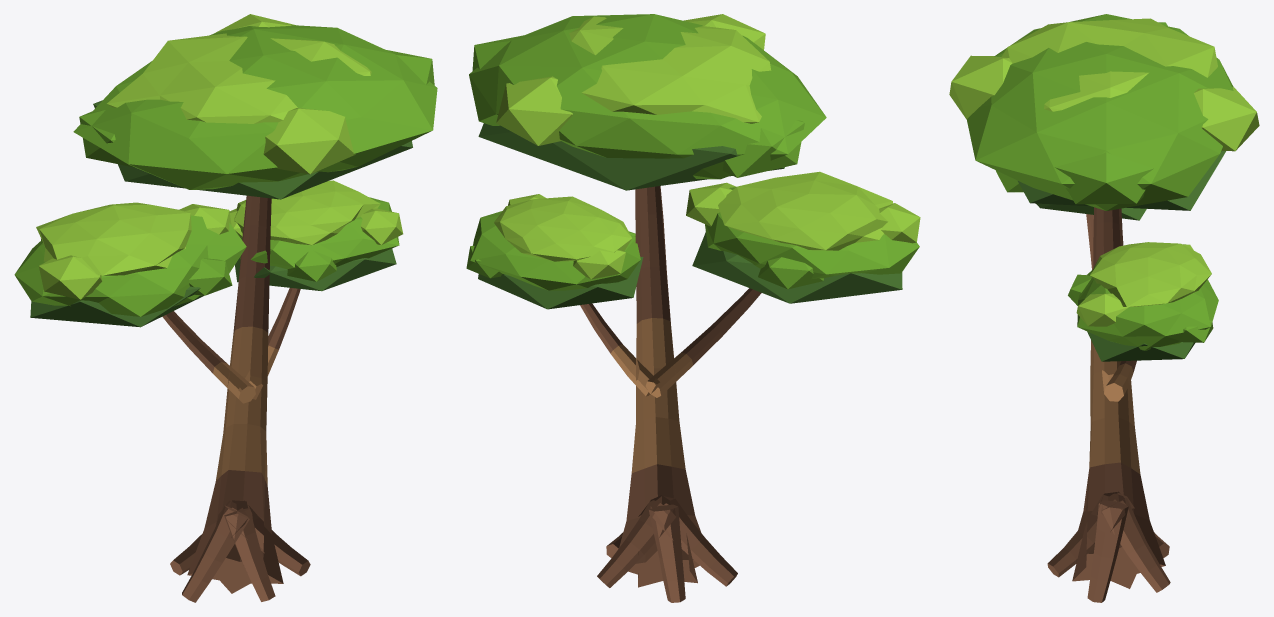
The model's file is tree-2.glb.
The picture shows the model from 3 angles, left to right: view 1: azimuth 30°, elevation 25°; view 2: azimuth 150°, elevation 25°; view 3: azimuth 270°, elevation 25°; orthographic projection.
Visible parts, largest first — view 1: canopy-0, trunk, canopy-1, canopy-2; view 2: canopy-0, trunk, canopy-1, canopy-2; view 3: canopy-0, trunk, canopy-2, canopy-1.
Part boxes in pixels (x1,y1,x2,y2): canopy-0: (73,14,437,199); trunk: (162,195,310,602); canopy-1: (14,202,246,327); canopy-2: (229,180,403,291); canopy-0: (469,14,826,190); trunk: (580,186,761,602); canopy-1: (686,171,920,303); canopy-2: (466,194,643,309); canopy-0: (949,14,1259,210); trunk: (1047,207,1170,602); canopy-2: (1068,242,1218,361); canopy-1: (996,170,1146,220).
Size of the model in its own units: 6.43 by 7.74 by 4.08.
